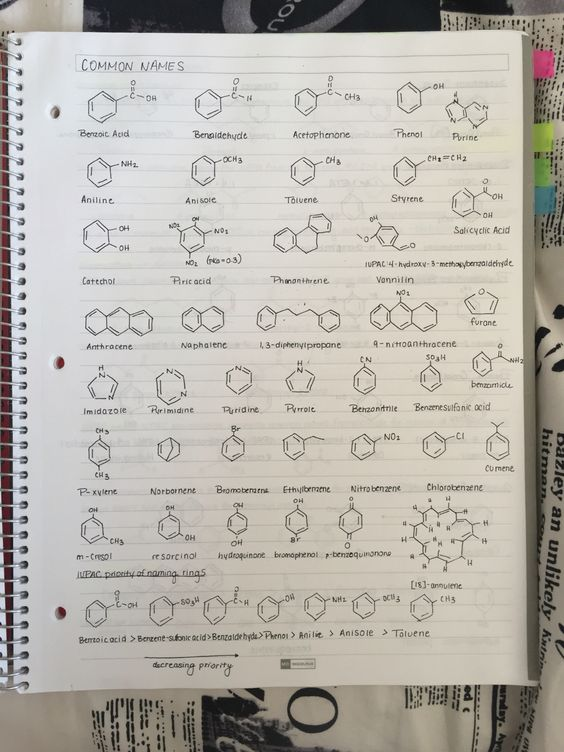page: (34, 35, 521, 683)
